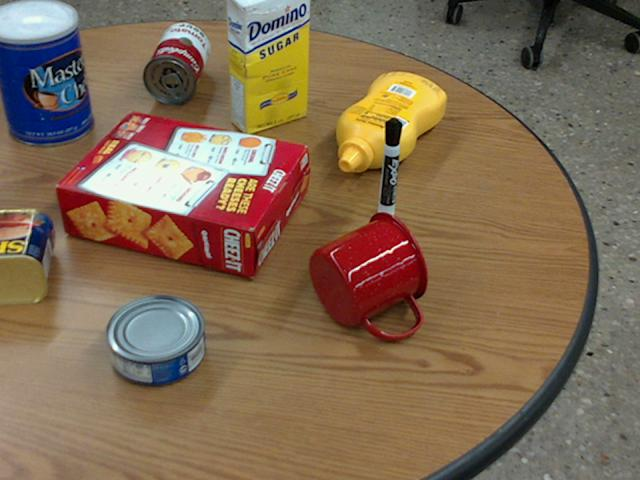cracker_box: (58, 111, 306, 276)
large_marker: (378, 117, 401, 218)
master_chef_can: (0, 0, 93, 145)
mug: (309, 212, 428, 338)
mustard_bottle: (336, 73, 444, 171)
potted_meat_can: (0, 207, 53, 302)
sugar_box: (227, 0, 309, 134)
tomato_soup_can: (142, 22, 208, 103)
tuna_fish_can: (104, 293, 202, 384)
